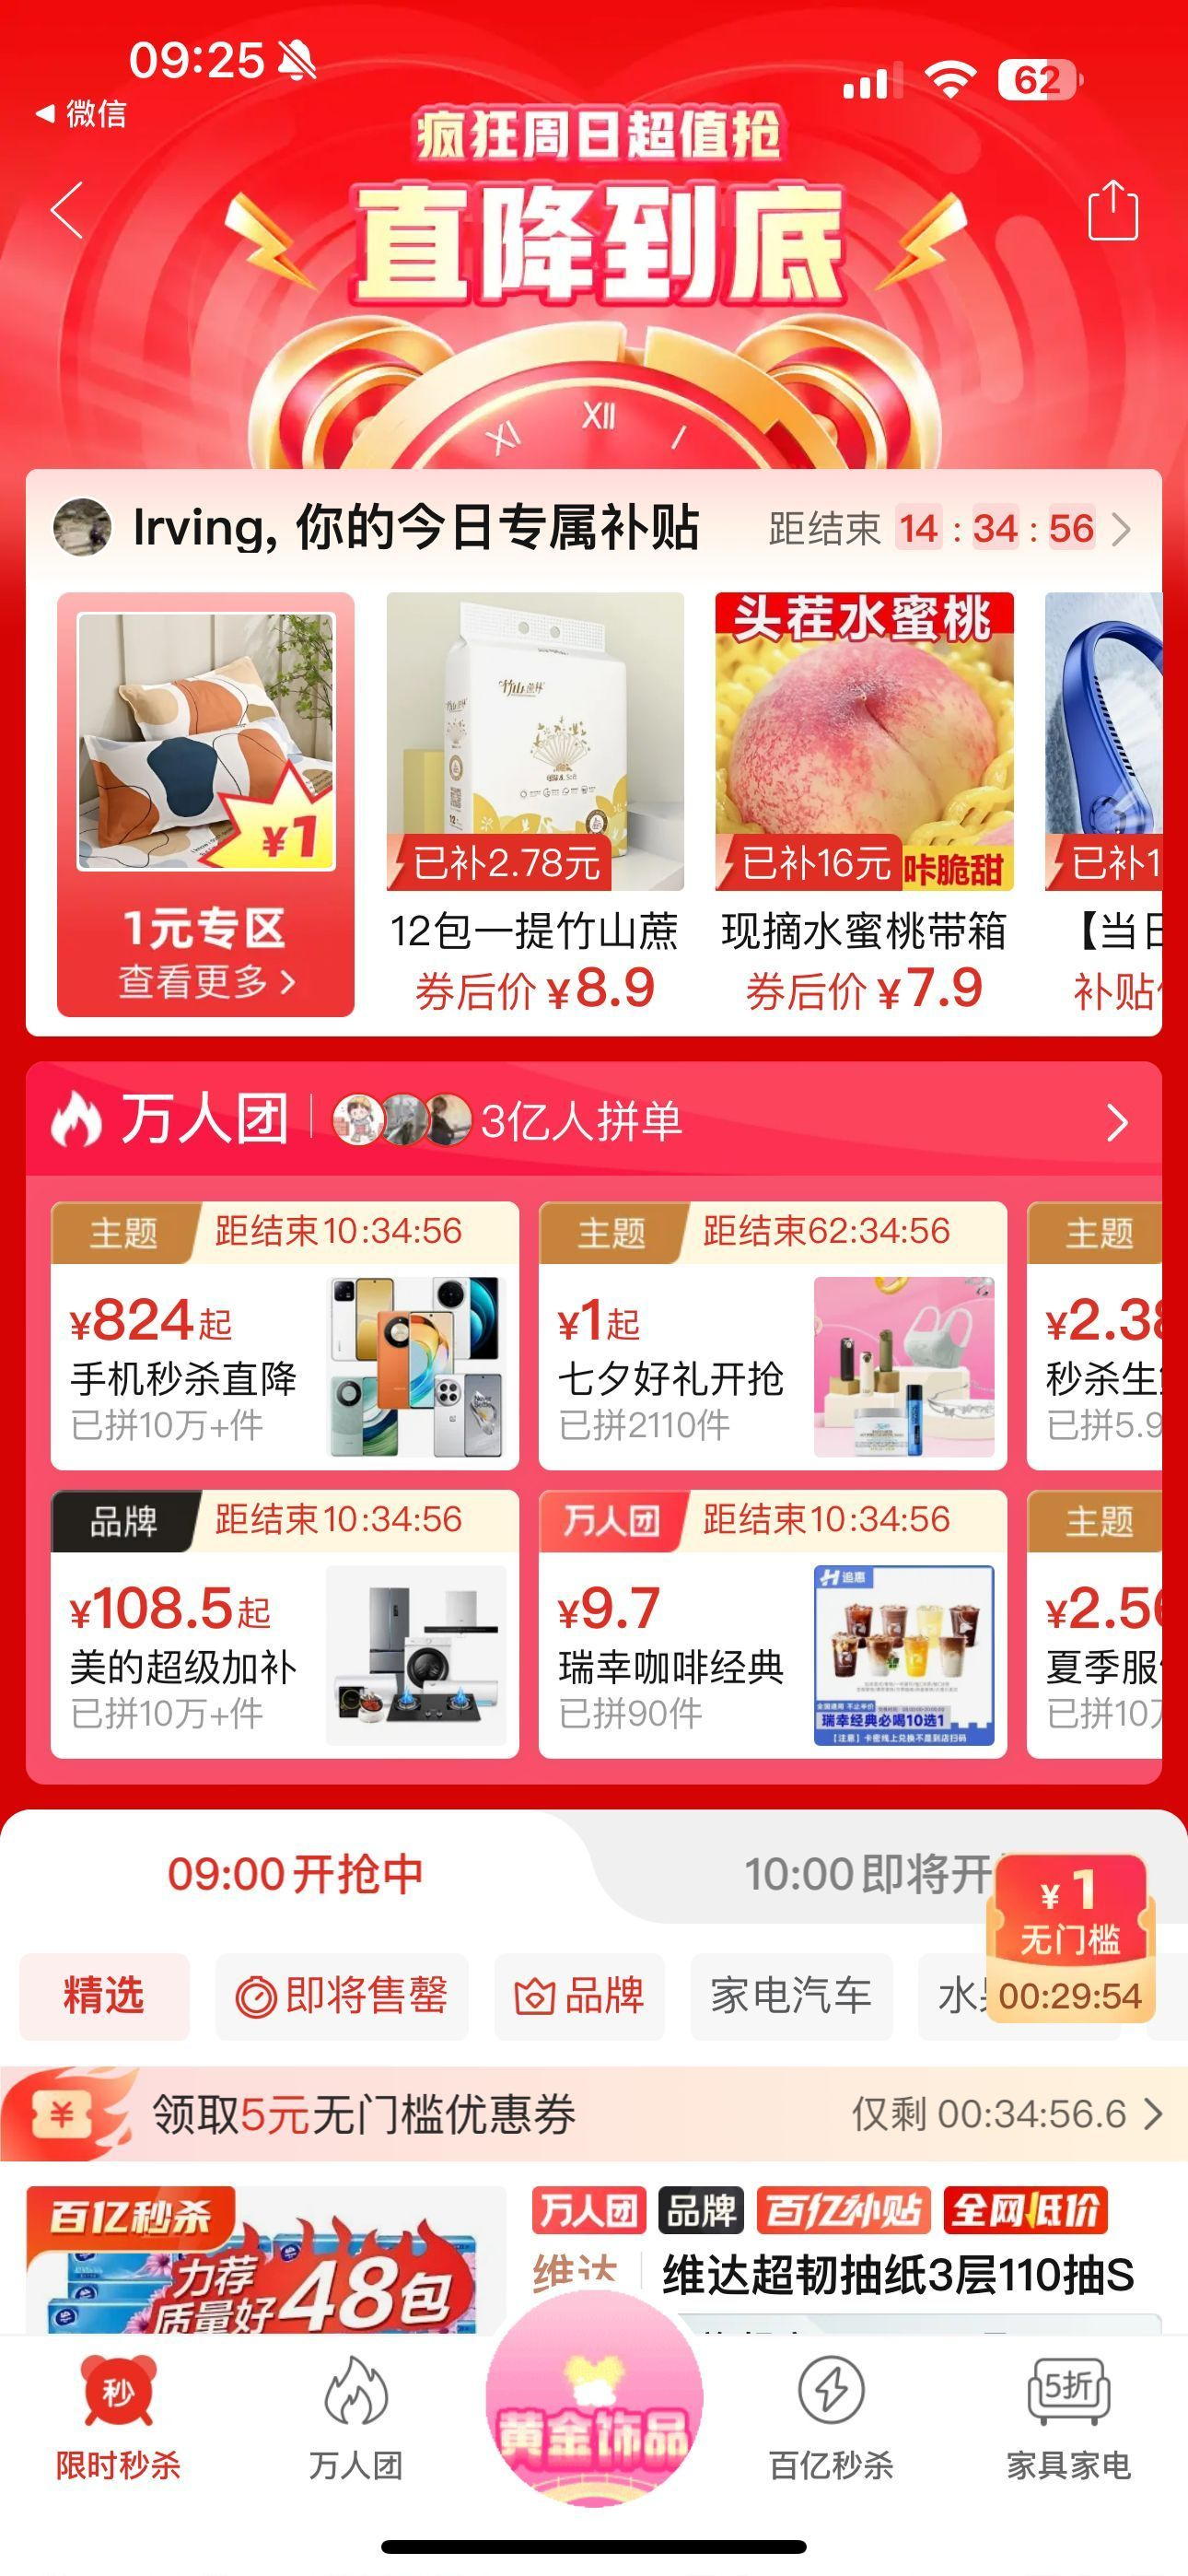banner: (3, 2052, 1188, 2177)
op_bar: (7, 149, 1183, 289)
seckill: (7, 1051, 1186, 1801), (10, 460, 1178, 1045)
